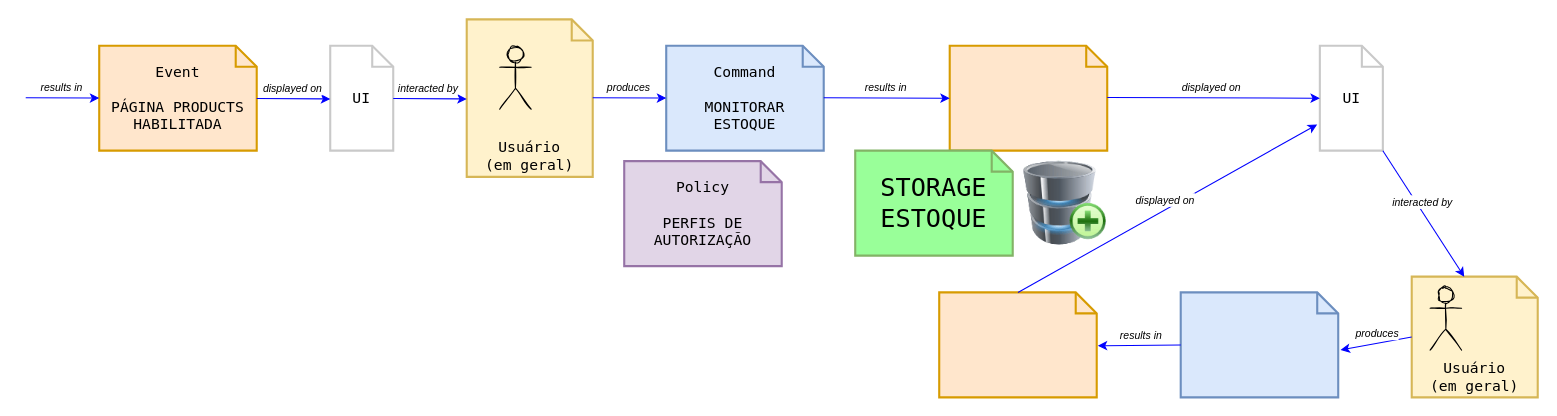
Image size: 1557x416. Some labels were removed from this diagram. Each missing label, with the centre of its shape:
Command LOCALIZAR PRODUTO: pixel 1259 344
Event PRODUTO LOCALIZADO: pixel 1017 344
Event PÁGINA PRODUCTS ATUALIZADA: pixel 1028 97
